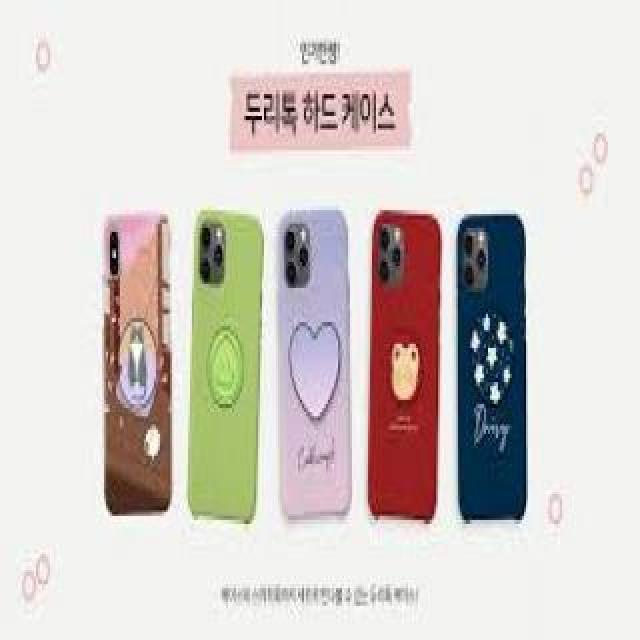smart phone: (92, 202, 182, 530), (362, 200, 448, 542), (270, 200, 348, 527), (462, 194, 532, 544), (190, 180, 255, 535)
